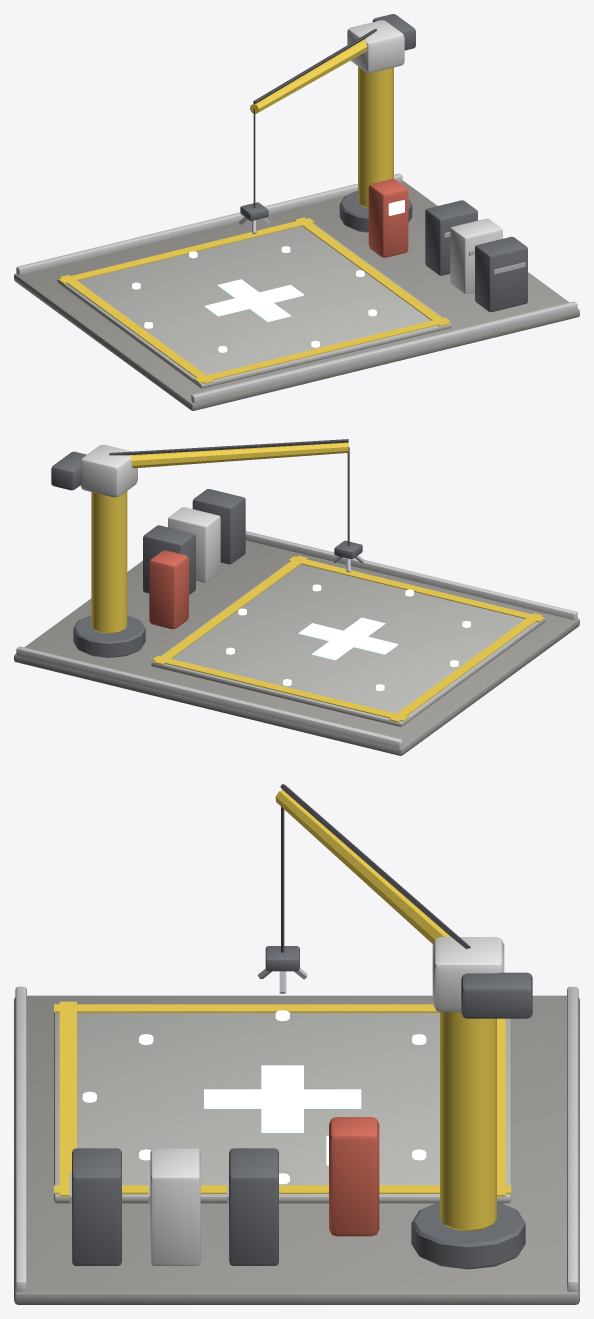
The model's file is repair.glb.
3 renders of one model, top to bottom at view 1: azimuth 30°, elevation 25°; view 2: azimuth 150°, elevation 25°; view 3: azimuth 270°, elevation 25°, orthographic. The views are drawn at different scales.
Visible parts, largest first — view 1: repair; view 2: repair; view 3: repair.
Boxes of the visible parts, <box> form: repair: <box>14,14,579,410</box>; repair: <box>14,439,579,755</box>; repair: <box>14,784,579,1304</box>.
Size of the model in its own units: 4.96 by 2.6 by 3.96.
